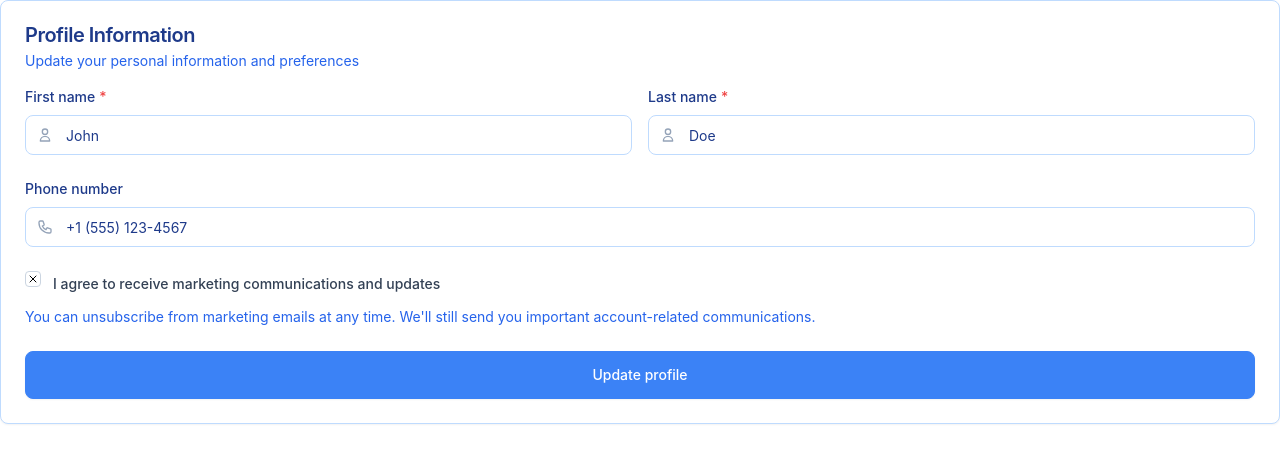
Test: ProfileForm › Form Validation › should show error for short first name
Replace the text in the field labelled "First name*" with "A" at (328, 135), box x1=25 y1=115 x2=632 y2=155
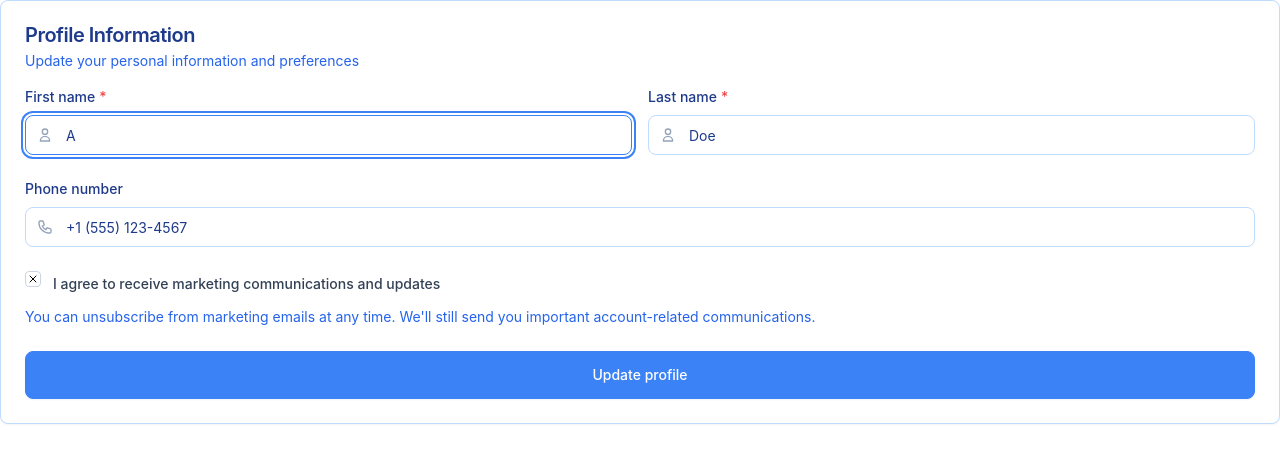
Submit the form
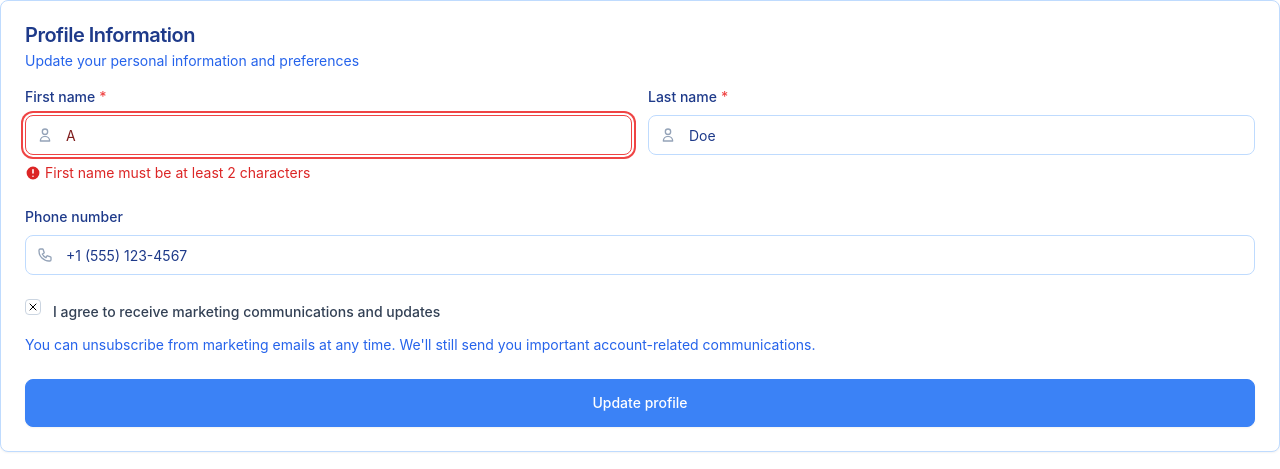
Expected: the text "First name must be at least 2 characters" is shown, x1=45 y1=163 x2=310 y2=183
